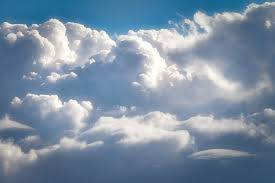sky: (2, 2, 274, 183)
